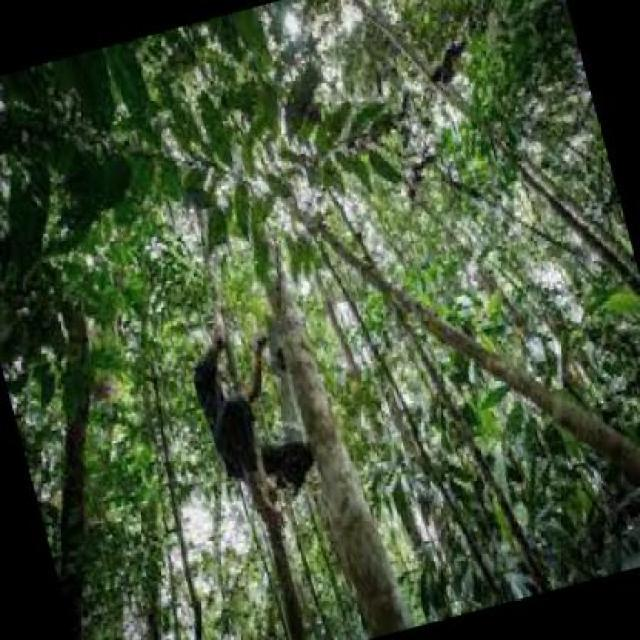poacher: (192, 318, 340, 544)
